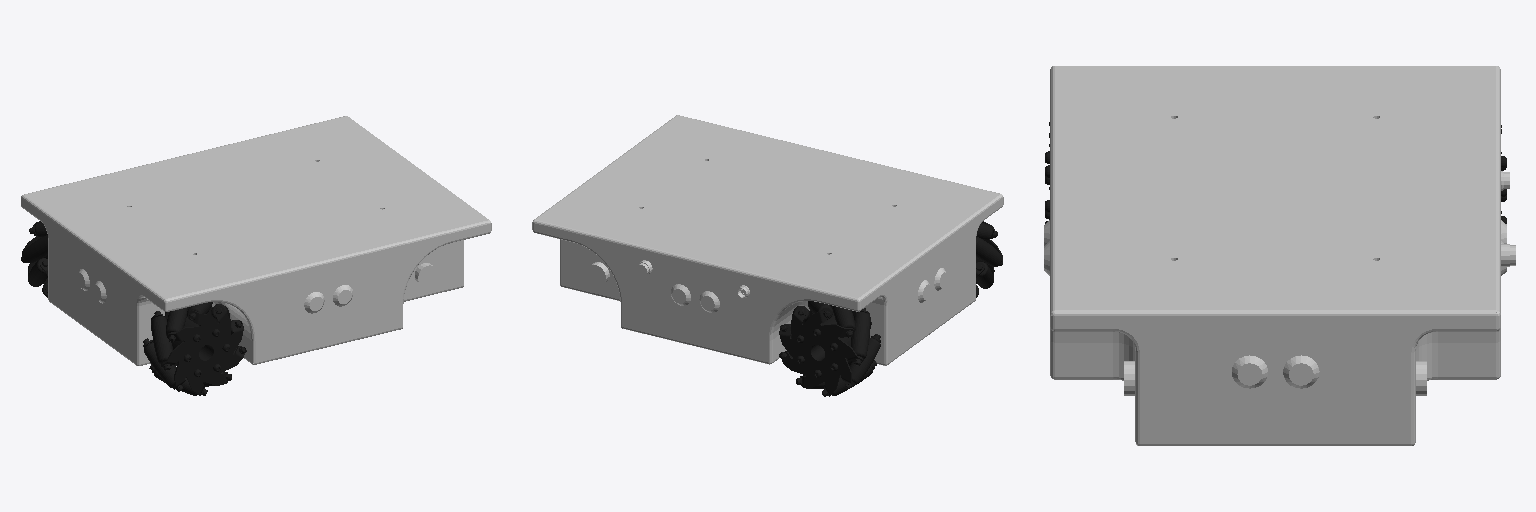
The robot description file, URDF, robot "robot":
<?xml version="1.0" ?>
<!-- =================================================================================== -->
<!-- |    This document was autogenerated by xacro from robot.urdf.xacro               | -->
<!-- |    EDITING THIS FILE BY HAND IS NOT RECOMMENDED                                 | -->
<!-- =================================================================================== -->
<robot>
  <!-- offset from base_link to base_footprint -->
  <!-- 0 - wheel_radius - distance_to_ground-->
  <!-- Color codes from https://gist.github.com/naoki-mizuno/5e63a13597d5c5fe817c1600b829595e, matches with Gazebo colors with the same name -->
  <material name="lightgrey">
    <color rgba="0.8 0.8 0.8 1.0"/>
  </material>
  <material name="darkgreyrover">
    <color rgba="0.15 0.15 0.15 1.0"/>
  </material>
  <!-- WHEEL_LF TRANSMISSION -->
  <transmission name="trans_lf">
    <type>transmission_interface/SimpleTransmission</type>
    <joint name="joint_lf">
      <hardwareInterface>hardware_interface/VelocityJointInterface</hardwareInterface>
    </joint>
    <actuator name="motor_lf">
      <hardwareInterface>hardware_interface/VelocityJointInterface</hardwareInterface>
      <mechanicalReduction>1</mechanicalReduction>
    </actuator>
  </transmission>
  <!-- WHEEL_LB TRANSMISSION -->
  <transmission name="trans_lb">
    <type>transmission_interface/SimpleTransmission</type>
    <joint name="joint_lb">
      <hardwareInterface>hardware_interface/VelocityJointInterface</hardwareInterface>
    </joint>
    <actuator name="motor_lb">
      <hardwareInterface>hardware_interface/VelocityJointInterface</hardwareInterface>
      <mechanicalReduction>1</mechanicalReduction>
    </actuator>
  </transmission>
  <!-- WHEEL_RF TRANSMISSION -->
  <transmission name="trans_rf">
    <type>transmission_interface/SimpleTransmission</type>
    <joint name="joint_rf">
      <hardwareInterface>hardware_interface/VelocityJointInterface</hardwareInterface>
    </joint>
    <actuator name="motor_rf">
      <hardwareInterface>hardware_interface/VelocityJointInterface</hardwareInterface>
      <mechanicalReduction>1</mechanicalReduction>
    </actuator>
  </transmission>
  <!-- WHEEL_RB TRANSMISSION -->
  <transmission name="trans_rb">
    <type>transmission_interface/SimpleTransmission</type>
    <joint name="joint_rb">
      <hardwareInterface>hardware_interface/VelocityJointInterface</hardwareInterface>
    </joint>
    <actuator name="motor_rb">
      <hardwareInterface>hardware_interface/VelocityJointInterface</hardwareInterface>
      <mechanicalReduction>1</mechanicalReduction>
    </actuator>
  </transmission>
  <!-- **** LINKS **** -->
  <!-- BASE_FOOTPRINT -->
  <link name="base_footprint"/>
  <!-- BASE_LINK -->
  <link name="base_link">
    <visual>
      <origin rpy="0 0 0" xyz="0 0 0"/>
      <geometry>
        <mesh filename="../meshes/rover.stl"/>
      </geometry>
      <material name="lightgrey"/>
    </visual>
    <collision>
      <origin rpy="0 0 0" xyz="0 0 -0.051"/>
      <geometry>
        <box size="0.4 0.307 0.102"/>
      </geometry>
    </collision>
  </link>
  <!-- BASE_LINK_INERTIAL (WORKAROUND FOR KDL WHICH DOES NOT ACCEPT BASE_LINK WITH INERTIA) -->
  <link name="base_link_inertial">
    <inertial>
      <origin rpy="0 0 0" xyz="0 0 0"/>
      <mass value="2.0"/>
      <inertia ixx="0.017442166666666665" ixy="0" ixz="0" iyy="0.02840066666666667" iyz="0" izz="0.02840066666666667"/>
    </inertial>
  </link>
  <!-- WHEEL LEFT FRONT -->
  <link name="wheel_lf">
    <inertial>
      <mass value="0.075"/>
      <inertia ixx="6.250000000000001e-05" ixy="0" ixz="0" iyy="6.250000000000001e-05" iyz="0" izz="9.375e-05"/>
    </inertial>
    <visual>
      <origin rpy="1.5707963 0 0" xyz="0 0 0"/>
      <geometry>
        <mesh filename="../meshes/wheel_lf.stl"/>
      </geometry>
      <material name="darkgreyrover"/>
    </visual>
    <collision>
      <origin rpy="1.5707963 0 0" xyz="0 0.025 0"/>
      <geometry>
        <cylinder length="0.05" radius="0.05"/>
      </geometry>
    </collision>
  </link>
  <!-- WHEEL LEFT BACK -->
  <link name="wheel_lb">
    <inertial>
      <mass value="0.075"/>
      <inertia ixx="6.250000000000001e-05" ixy="0" ixz="0" iyy="6.250000000000001e-05" iyz="0" izz="9.375e-05"/>
    </inertial>
    <visual>
      <origin rpy="1.5707963 0 0" xyz="0 0 0"/>
      <geometry>
        <mesh filename="../meshes/wheel_lb.stl"/>
      </geometry>
      <material name="darkgreyrover"/>
    </visual>
    <collision>
      <origin rpy="1.5707963 0 0" xyz="0 0.025 0"/>
      <geometry>
        <cylinder length="0.05" radius="0.05"/>
      </geometry>
    </collision>
  </link>
  <!-- WHEEL RIGHT FRONT -->
  <link name="wheel_rf">
    <inertial>
      <mass value="0.075"/>
      <inertia ixx="6.250000000000001e-05" ixy="0" ixz="0" iyy="6.250000000000001e-05" iyz="0" izz="9.375e-05"/>
    </inertial>
    <visual>
      <origin rpy="-1.5707963 0 0" xyz="0 0 0"/>
      <geometry>
        <mesh filename="../meshes/wheel_rf.stl"/>
      </geometry>
      <material name="darkgreyrover"/>
    </visual>
    <collision>
      <origin rpy="-1.5707963 0 0" xyz="0 -0.025 0"/>
      <geometry>
        <cylinder length="0.05" radius="0.05"/>
      </geometry>
    </collision>
  </link>
  <!-- WHEEL RIGHT BACK -->
  <link name="wheel_rb">
    <inertial>
      <mass value="0.075"/>
      <inertia ixx="6.250000000000001e-05" ixy="0" ixz="0" iyy="6.250000000000001e-05" iyz="0" izz="9.375e-05"/>
    </inertial>
    <visual>
      <origin rpy="-1.5707963 0 0" xyz="0 0 0"/>
      <geometry>
        <mesh filename="../meshes/wheel_rb.stl"/>
      </geometry>
      <material name="darkgreyrover"/>
    </visual>
    <collision>
      <origin rpy="-1.5707963 0 0" xyz="0 -0.025 0"/>
      <geometry>
        <cylinder length="0.05" radius="0.05"/>
      </geometry>
    </collision>
  </link>
  <!-- **** JOINTS **** -->
  <!-- BASE_LINK TO BASE_FOOTPRINT -->
  <joint name="base_footprint_fixed" type="fixed">
    <parent link="base_footprint"/>
    <child link="base_link"/>
    <origin xyz="0 0 0.125"/>
  </joint>
  <!-- BASE_LINK_INERTIAL TO BASE_LINK -->
  <joint name="base_inertial_fixed" type="fixed">
    <parent link="base_link"/>
    <child link="base_link_inertial"/>
    <origin xyz="0 0 0"/>
  </joint>
  <!-- WHEEL_LF TO BASE_LINK -->
  <joint name="joint_lf" type="continuous">
    <parent link="base_link"/>
    <child link="wheel_lf"/>
    <origin rpy="0 0 0" xyz="0.15 0.1035 -0.073"/>
    <axis xyz="0 1 0"/>
  </joint>
  <!-- WHEEL_LB TO BASE_LINK -->
  <joint name="joint_lb" type="continuous">
    <parent link="base_link"/>
    <child link="wheel_lb"/>
    <origin rpy="0 0 0" xyz="-0.15 0.1035 -0.073"/>
    <axis xyz="0 1 0"/>
  </joint>
  <!-- WHEEL_RF TO BASE_LINK -->
  <joint name="joint_rf" type="continuous">
    <parent link="base_link"/>
    <child link="wheel_rf"/>
    <origin rpy="0 0 0" xyz="0.15 -0.1035 -0.073"/>
    <axis xyz="0 1 0"/>
  </joint>
  <!-- WHEEL_RB TO BASE_LINK -->
  <joint name="joint_rb" type="continuous">
    <parent link="base_link"/>
    <child link="wheel_rb"/>
    <origin rpy="0 0 0" xyz="-0.15 -0.1035 -0.073"/>
    <axis xyz="0 1 0"/>
  </joint>
</robot>

--- Facts derived from the render (not from the file) ---
3 views of the same robot in one strip: view 1: azimuth 30°, elevation 25°; view 2: azimuth 150°, elevation 25°; view 3: azimuth 270°, elevation 25° (orthographic).
Robot: robot — 7 links, 6 joints (4 continuous, 2 fixed); root link base_footprint; default pose: all joints at 0.
Visible links, largest first — view 1: base_link, wheel_rb, wheel_lb; view 2: base_link, wheel_lb, wheel_rb; view 3: base_link.
Boxes of the visible links, x1=… form: base_link: x1=21, y1=116, x2=491, y2=365; wheel_rb: x1=143, y1=302, x2=246, y2=395; wheel_lb: x1=21, y1=221, x2=47, y2=297; base_link: x1=532, y1=115, x2=1003, y2=365; wheel_lb: x1=779, y1=301, x2=880, y2=396; wheel_rb: x1=976, y1=221, x2=1002, y2=297; base_link: x1=1044, y1=66, x2=1515, y2=445.
Bounding box of the posed robot: 0.408 × 0.321 × 0.1251 m (x, y, z).
Meshes: 5 distinct files referenced, 3 mesh visuals loaded (3 binary STL); not drawn: 2 (reference not matched to a file when rendering).
